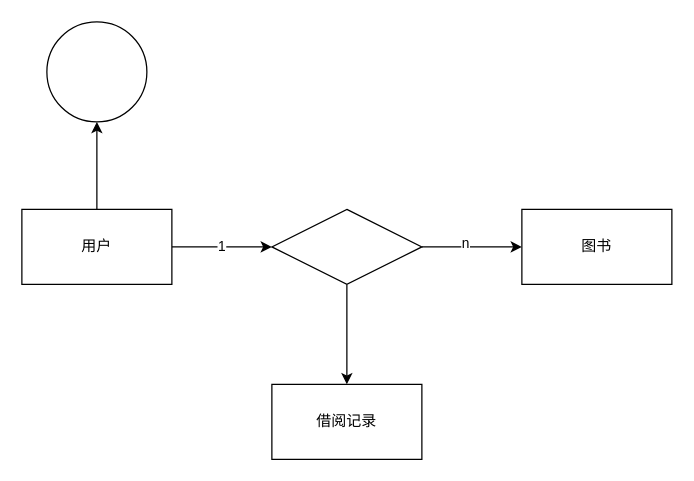
This 694x481 diagram has some shape labels left out. Each missing label, with the centre of its shape:
借书证号: (96,71)
借阅: (346,246)
